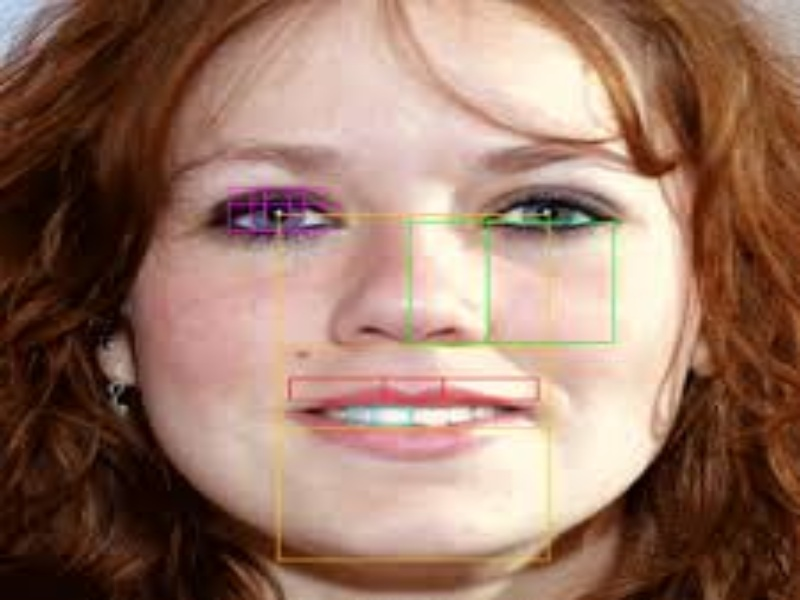face: (162, 65, 680, 503)
